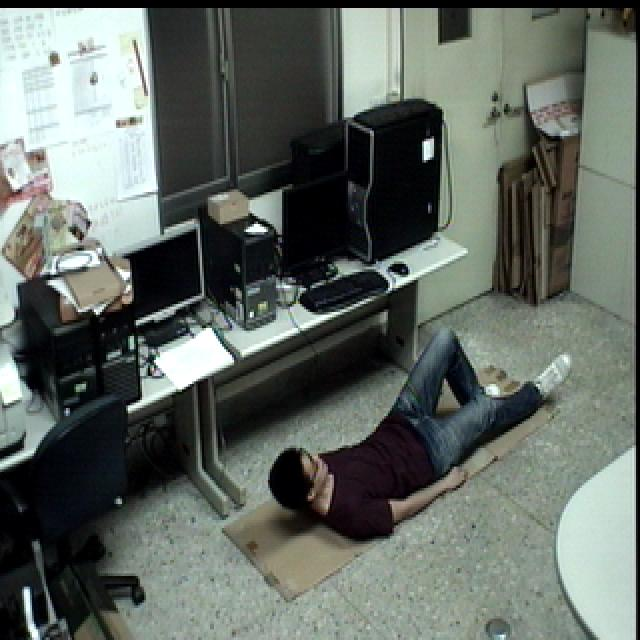lie: (268, 320, 577, 544)
